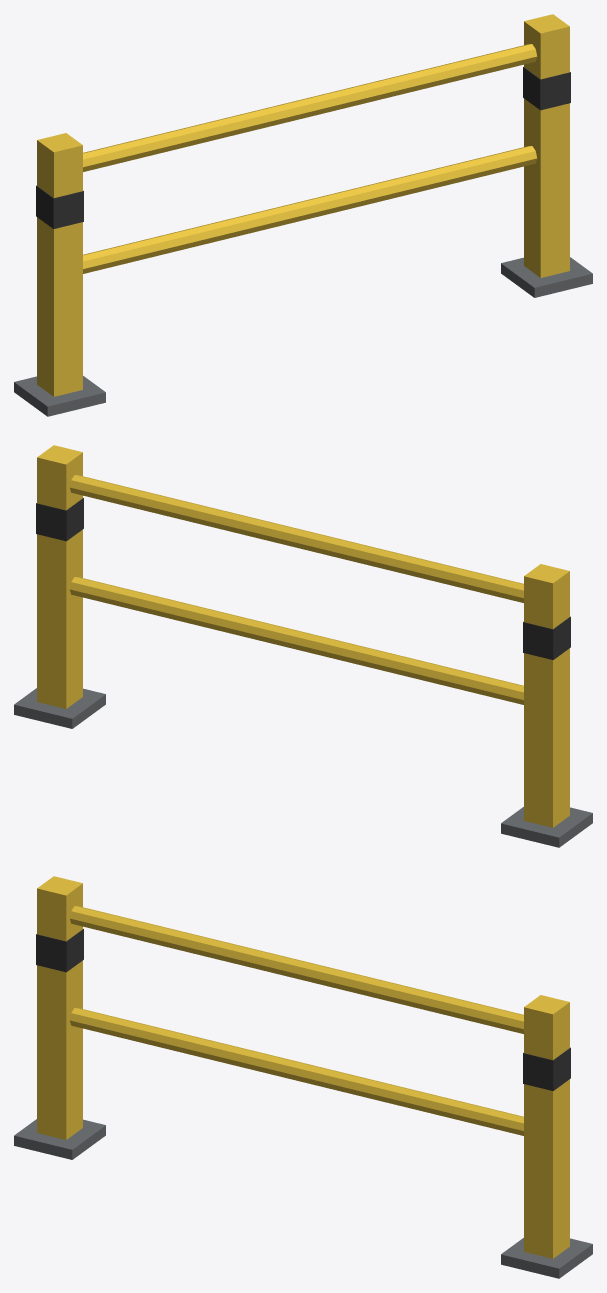
The model's file is kit_railing.glb.
The picture shows the model from 3 angles, top to bottom: view 1: azimuth 30°, elevation 25°; view 2: azimuth 150°, elevation 25°; view 3: azimuth 330°, elevation 25°; orthographic projection.
Parts seen in each view (by area): view 1: posts, rails; view 2: posts, rails; view 3: posts, rails.
Part boxes in pixels (x1,y1,x2,y2): posts: (14,14,592,416); rails: (83,44,537,273); posts: (14,445,592,847); rails: (69,475,523,704); posts: (14,876,592,1278); rails: (69,906,523,1135).
Size of the model in its own units: 2.24 by 1 by 0.24.
